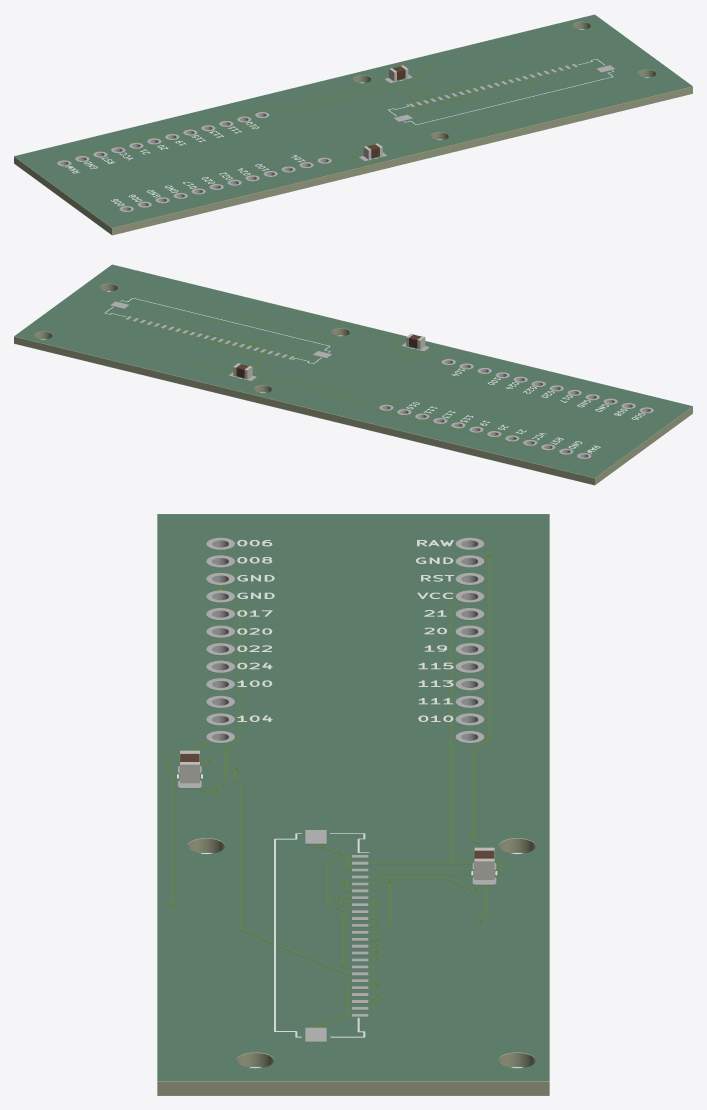
File: YAKB-controller-B1.glb
The picture shows the model from 3 angles, top to bottom: view 1: azimuth 30°, elevation 25°; view 2: azimuth 150°, elevation 25°; view 3: azimuth 270°, elevation 25°; orthographic projection. The views are drawn at different scales.
Parts seen in each view (by area): view 1: =>[0:1:1:9], =>[0:1:1:11], =>[0:1:1:5], =>[0:1:1:7], =>[0:1:1:10], =>[0:1:1:4]; view 2: =>[0:1:1:9], =>[0:1:1:11], =>[0:1:1:5], =>[0:1:1:7], =>[0:1:1:10], =>[0:1:1:4]; view 3: =>[0:1:1:9], =>[0:1:1:11], =>[0:1:1:5], =>[0:1:1:4], =>[0:1:1:7].
Boxes of the visible parts, <box> form: =>[0:1:1:9]: <box>14,14,692,227</box>; =>[0:1:1:11]: <box>14,15,692,234</box>; =>[0:1:1:5]: <box>57,64,614,211</box>; =>[0:1:1:7]: <box>65,59,613,206</box>; =>[0:1:1:10]: <box>15,28,692,235</box>; =>[0:1:1:4]: <box>70,65,595,198</box>; =>[0:1:1:9]: <box>14,264,692,477</box>; =>[0:1:1:11]: <box>14,265,692,484</box>; =>[0:1:1:5]: <box>110,301,653,458</box>; =>[0:1:1:7]: <box>104,298,644,453</box>; =>[0:1:1:10]: <box>14,290,691,485</box>; =>[0:1:1:4]: <box>127,307,601,457</box>; =>[0:1:1:9]: <box>157,514,549,1080</box>; =>[0:1:1:11]: <box>157,515,549,1095</box>; =>[0:1:1:5]: <box>178,538,496,1041</box>; =>[0:1:1:4]: <box>167,554,502,1027</box>; =>[0:1:1:7]: <box>177,540,497,1037</box>.
Size of the model in its own units: 0.082 by 0.00232 by 0.024.
